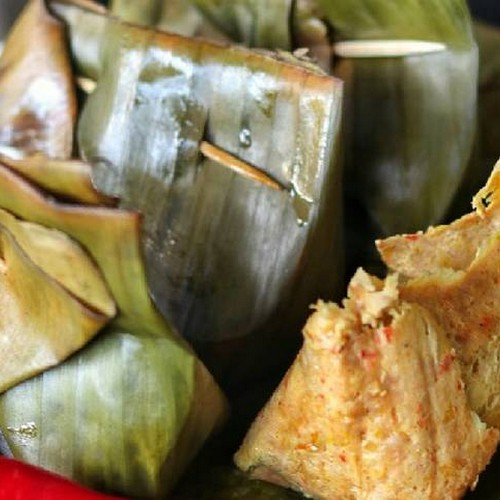tum ayam: (241, 177, 499, 494)
